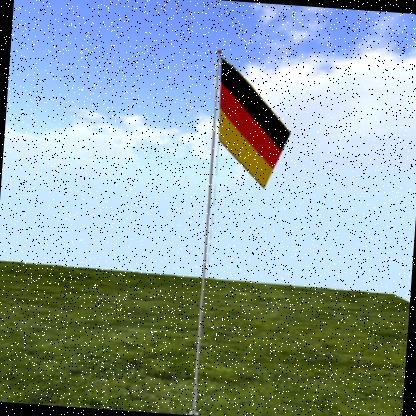de: (214, 61, 296, 191)
